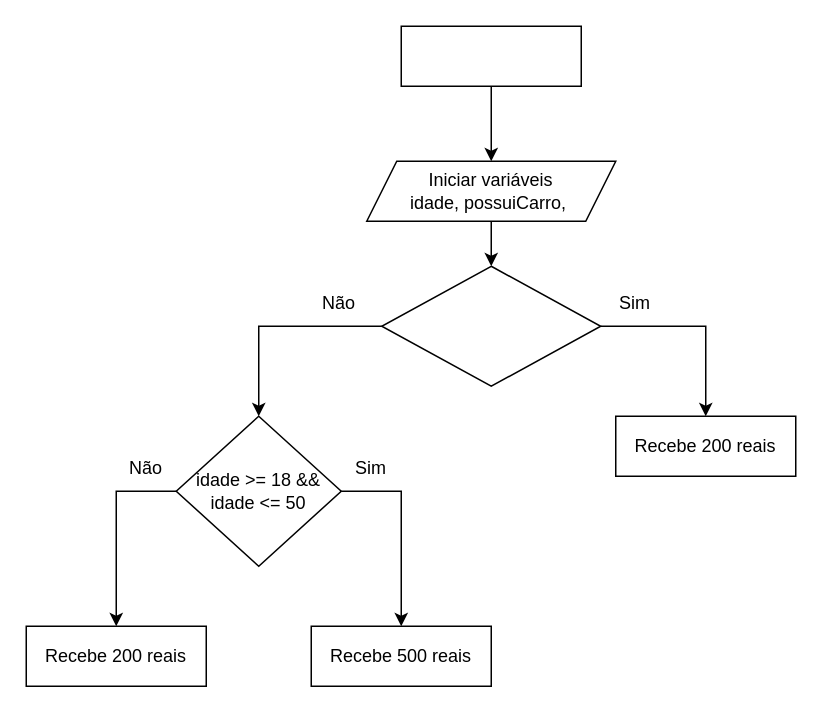
Image size: 822x713. Some labels were removed from this diagram. The shapes that lost their labels are listed below. From the top down, each one's centre as x and y in pixels, then its label:
pixel 490 55: Inicio
pixel 490 325: possuiCarro == true
